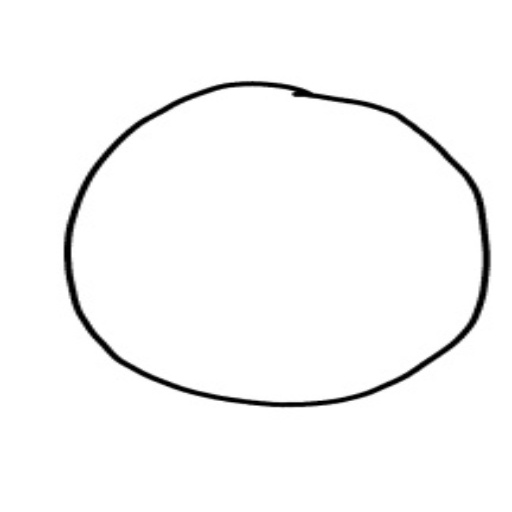circle: (51, 75, 499, 412)
